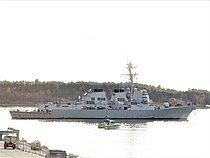MIL_Ship: (8, 86, 196, 121)
